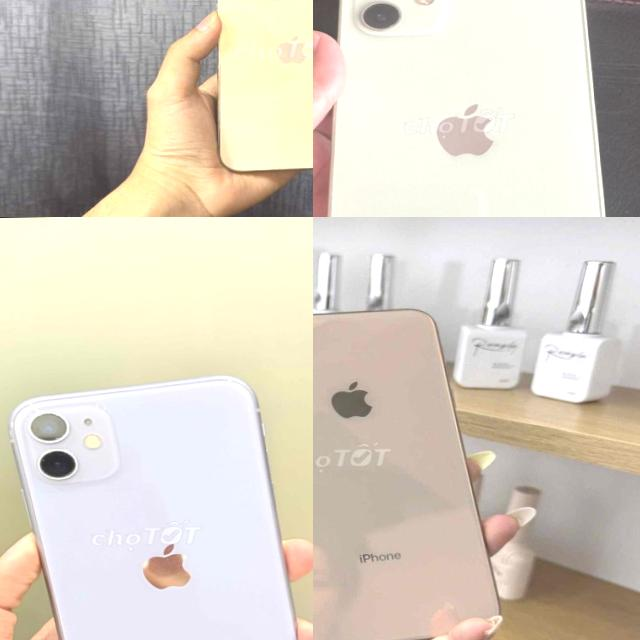gen_11: (9, 376, 298, 640)
gen_12_13: (313, 0, 627, 217), (204, 0, 313, 178)
gen_x_xs: (313, 302, 505, 640)
